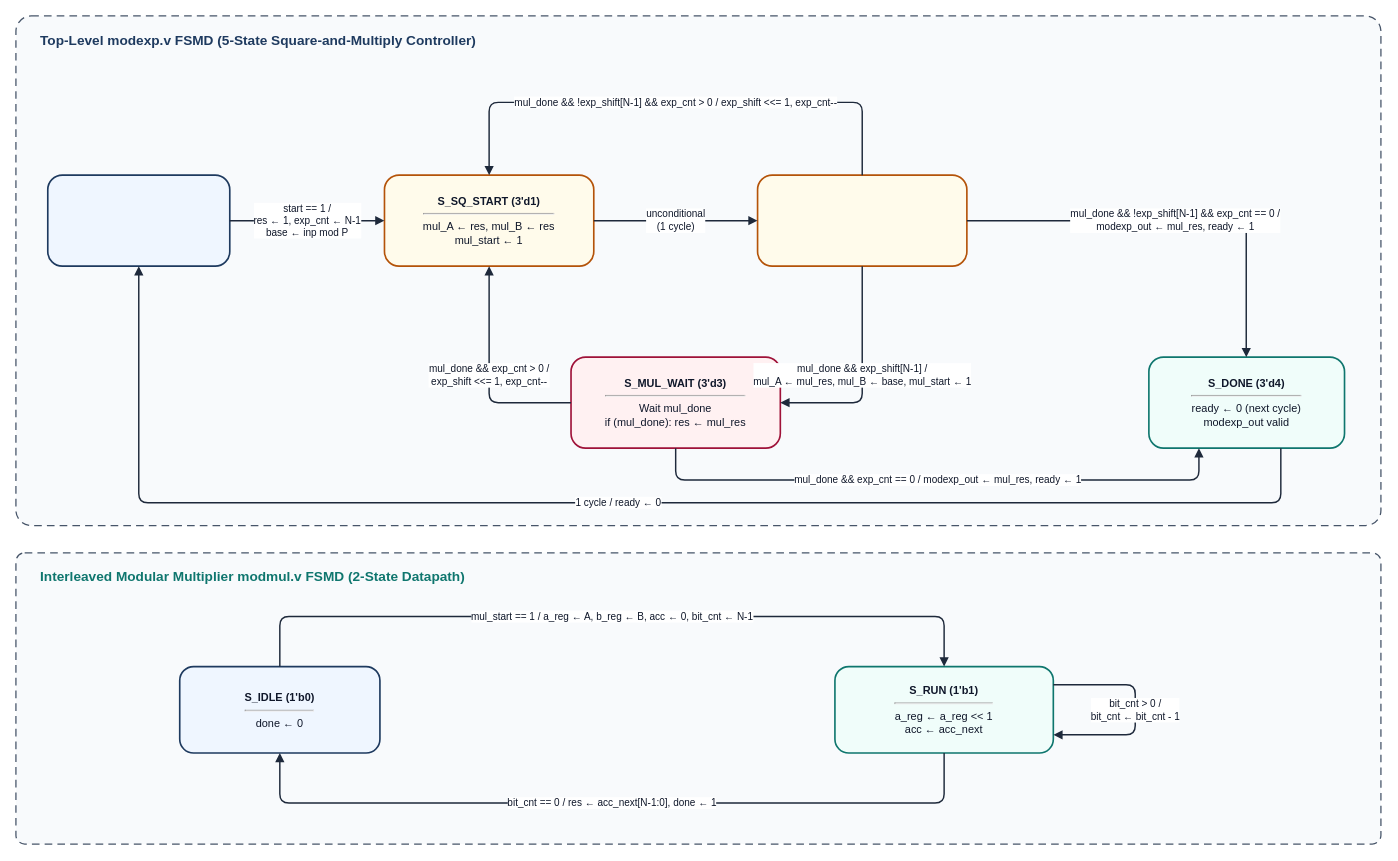
This 1398x861 diagram has some shape labels left out. Each missing label, with the centre of its shape:
S_IDLE (3'd0) ready ← 0 mul_start ← 0: the point at 138,220
S_SQ_WAIT (3'd2) Wait mul_done if (mul_done): res ← mul_res: the point at 861,220
